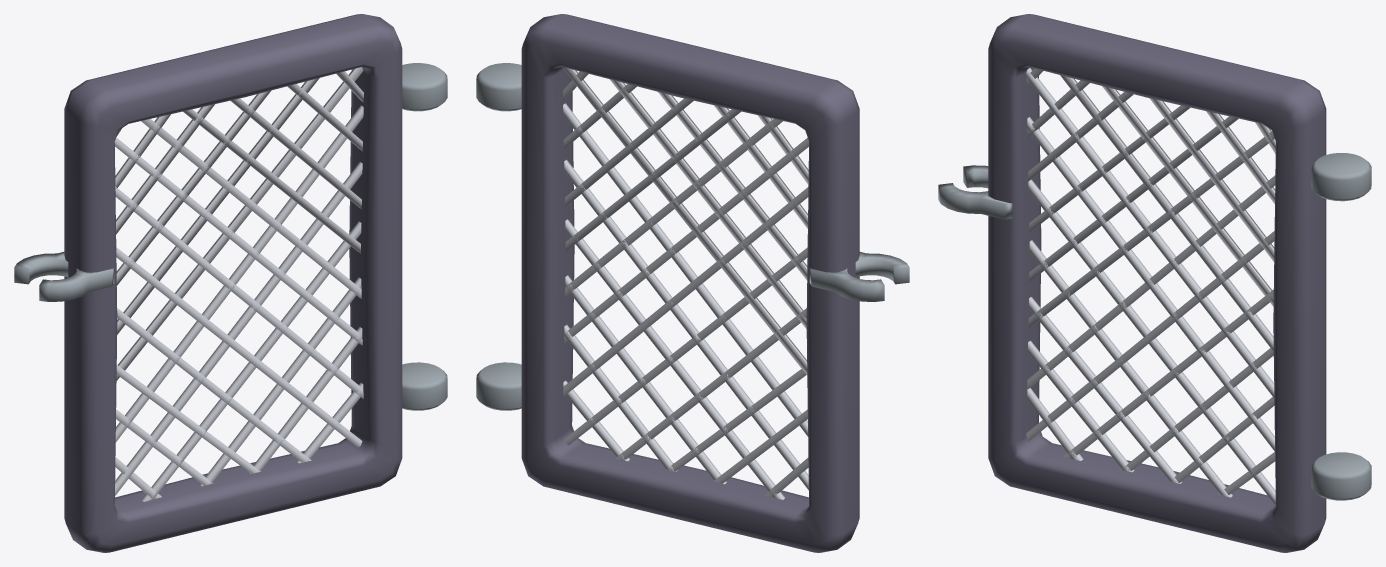
File: MetalFenceDoor.fbx
3 views of the same model, side by side, from view 1: azimuth 30°, elevation 25°; view 2: azimuth 150°, elevation 25°; view 3: azimuth 330°, elevation 25° (orthographic).
Visible parts, largest first — view 1: MetalFenceDoor; view 2: MetalFenceDoor; view 3: MetalFenceDoor.
Boxes of the visible parts, x1=… form: MetalFenceDoor: x1=14, y1=14, x2=447, y2=552; MetalFenceDoor: x1=476, y1=14, x2=909, y2=552; MetalFenceDoor: x1=938, y1=14, x2=1371, y2=552.
Size of the model in its own units: 113 by 120 by 18.52.
